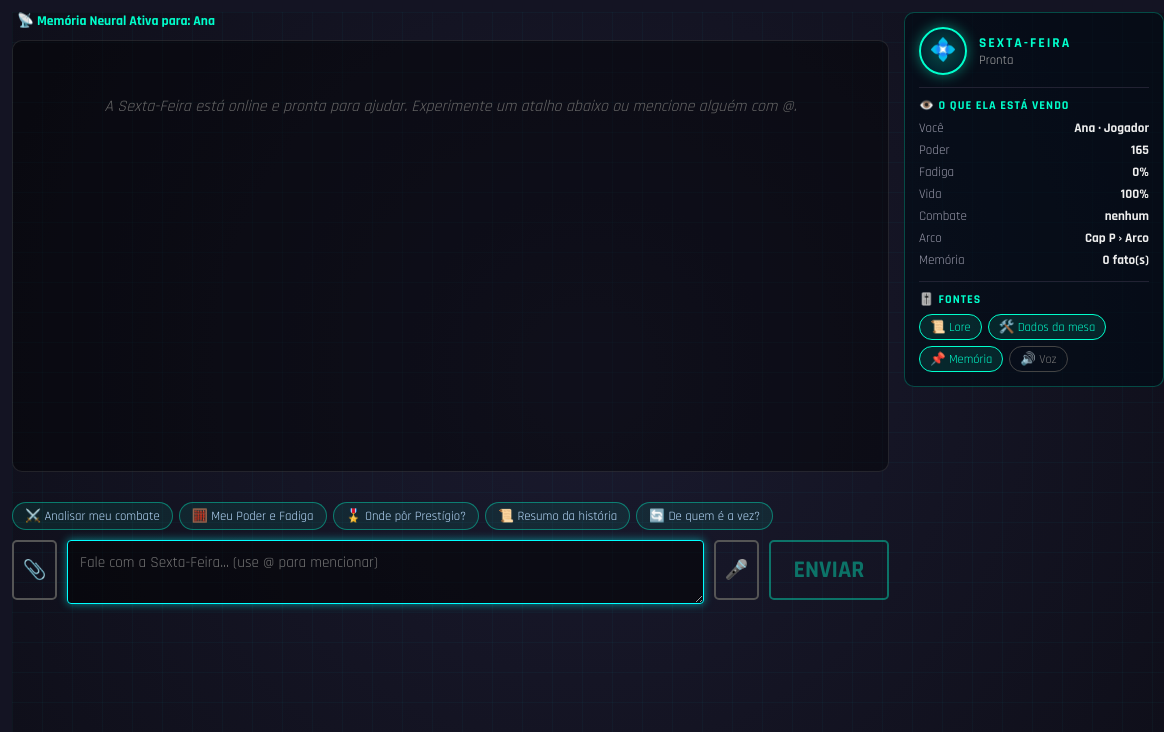
CartaoProposta - jogador › propor_item mostra rotulo {"nome":"Espada","tipo":"arma"} e botao de aprovacao
Type "crie algo" into the text box named "Mensagem para a Sexta-Feira" at [386, 572], box [67,540,704,604]
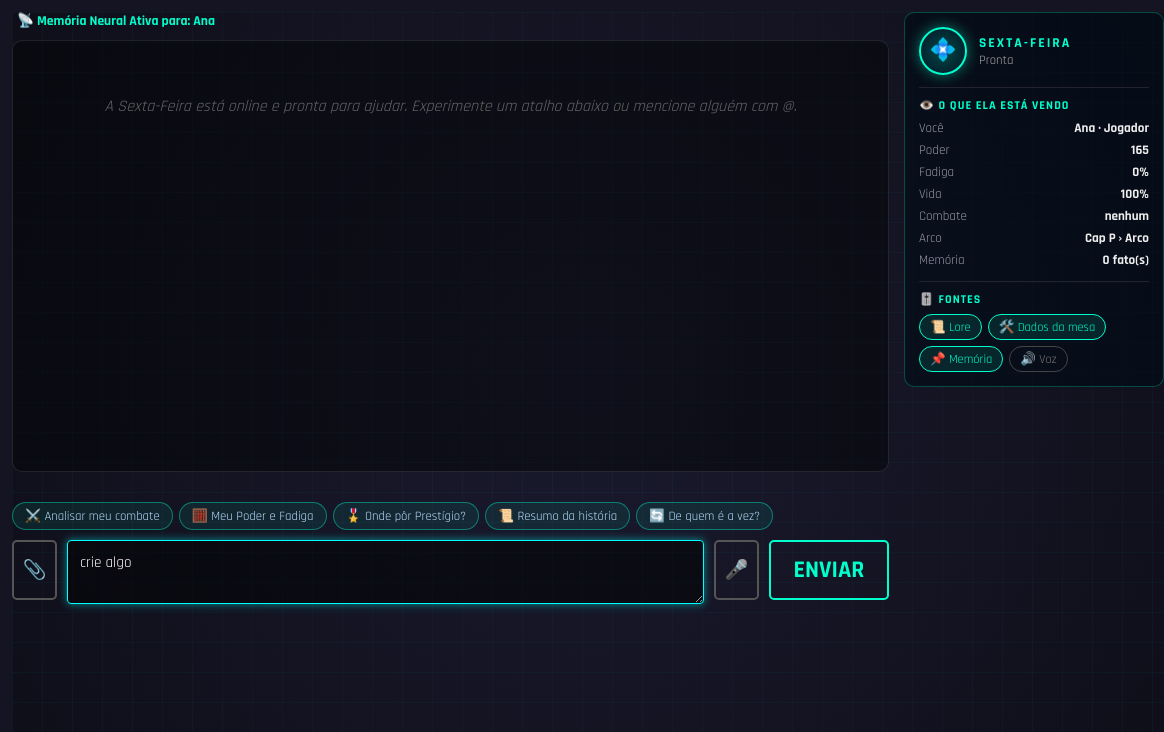
Click the button "ENVIAR" at [829, 570], box [769,540,889,600]
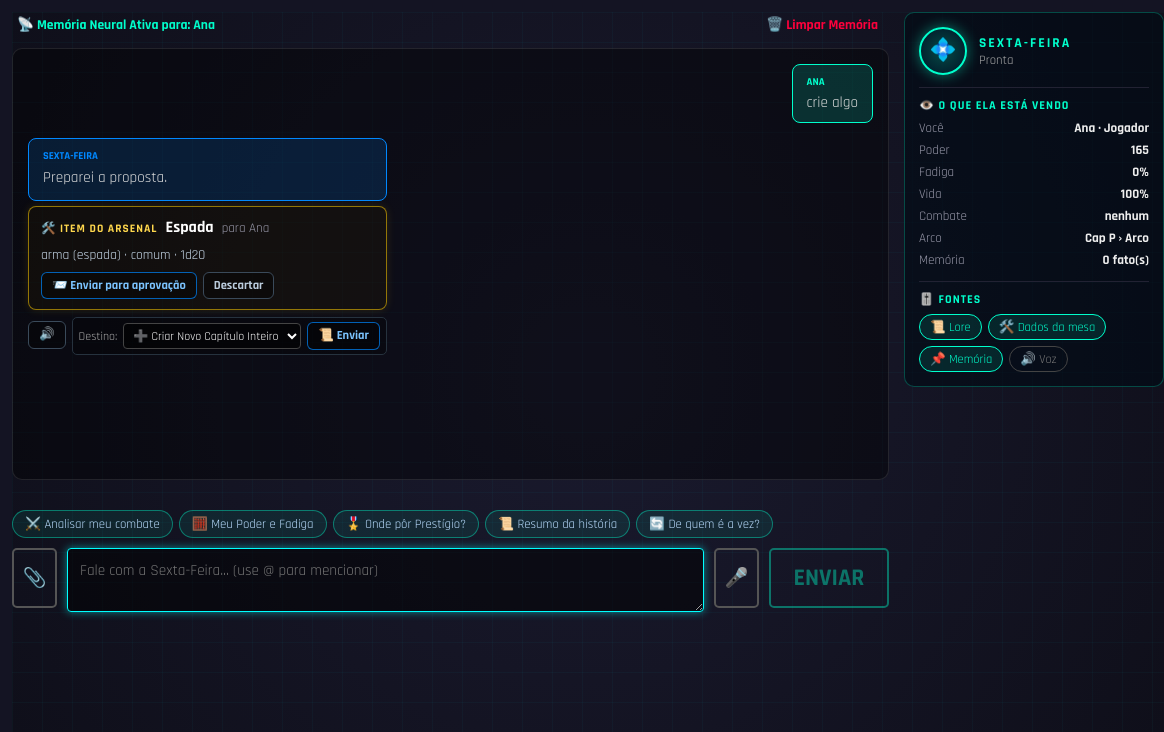
Expected: the element with class "sexta-criacao" is shown, [28,206,387,310]
Expected: the element with class "sexta-criacao" shows "Item do Arsenal", [60,221,158,236]
Expected: the button "📨 Enviar para aprovação" is shown, [41,272,197,299]
